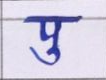u_matra: (30, 45, 63, 65)
